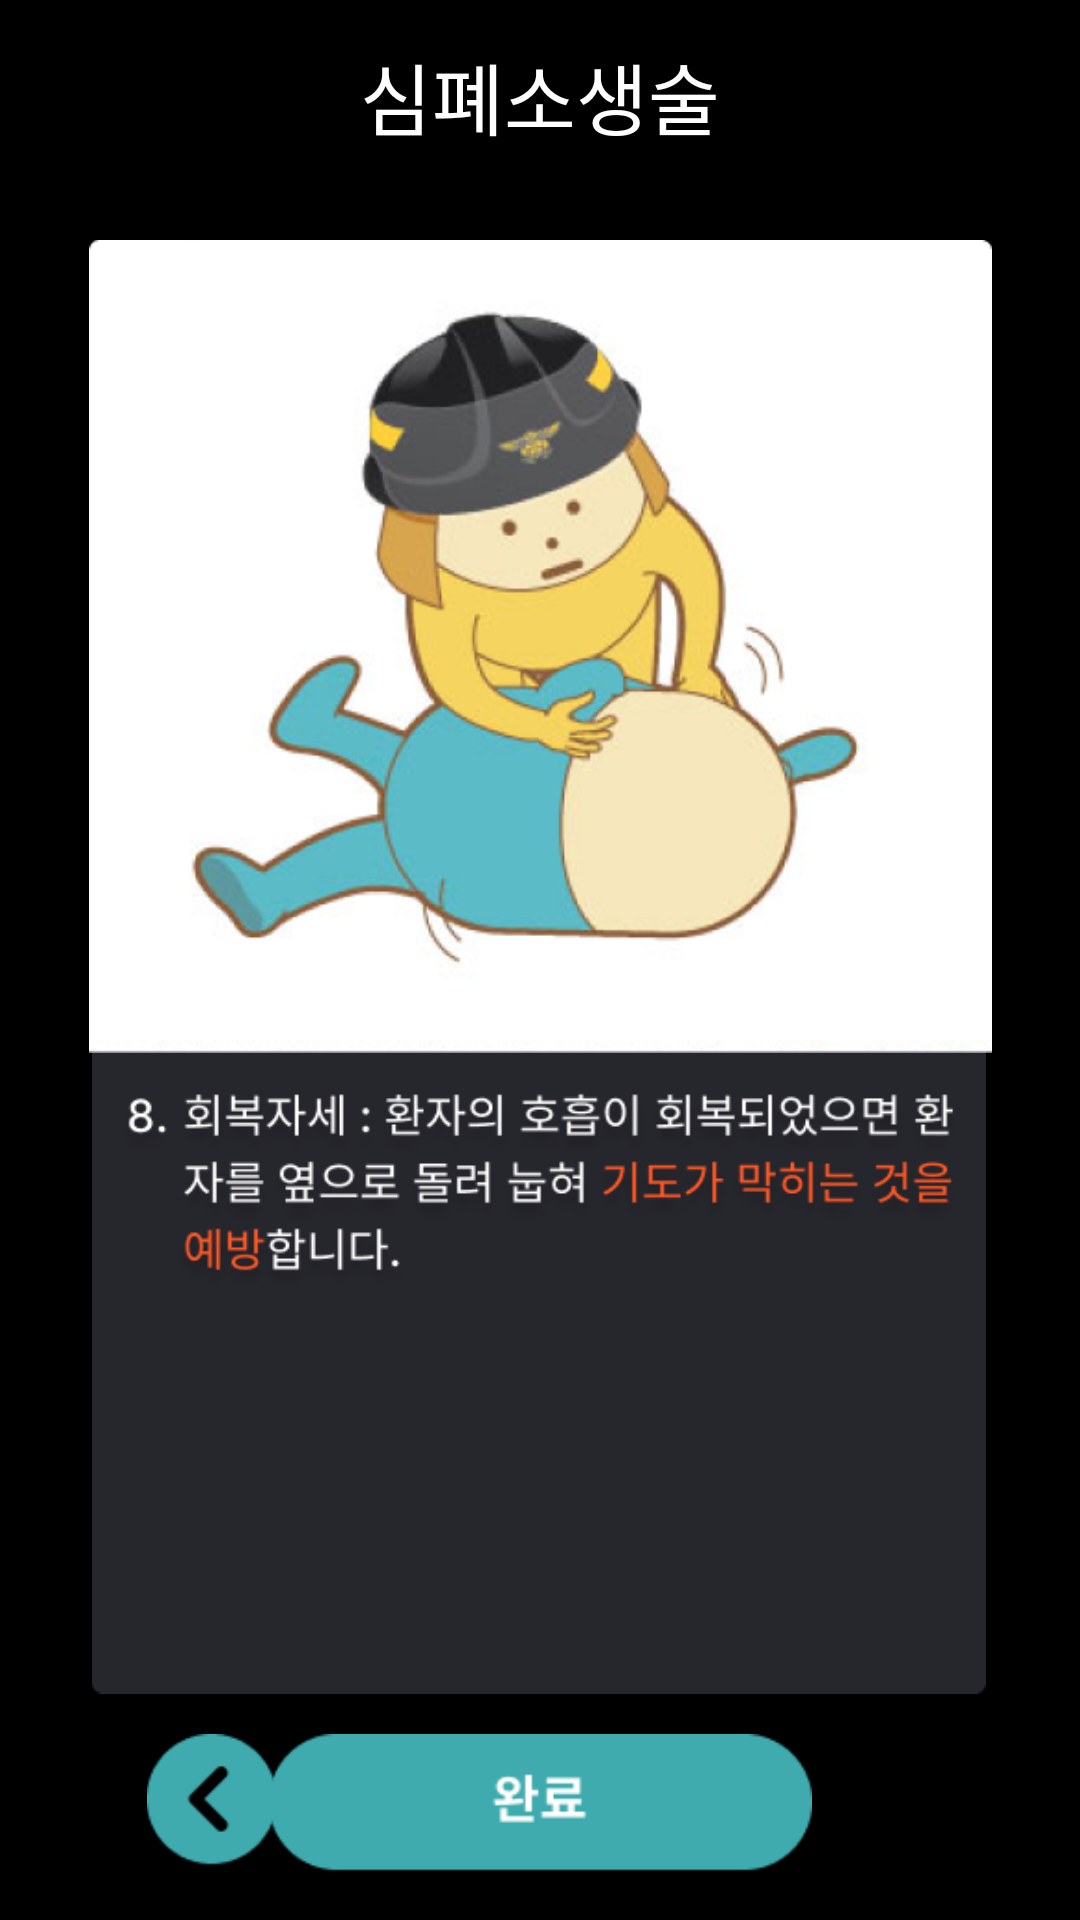

Icon bounding boxes for this 1080x1920 phone screenshot, format (x1, y1, x2, y2):
edu previous page: (147, 1734, 282, 1865)
